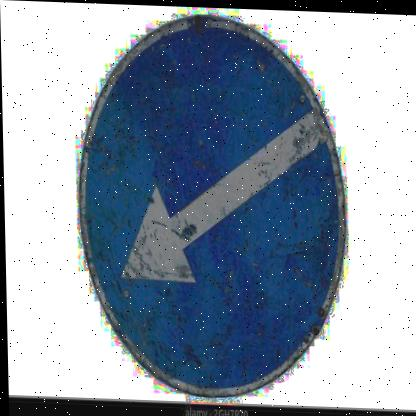Keep left: (73, 14, 347, 402)
